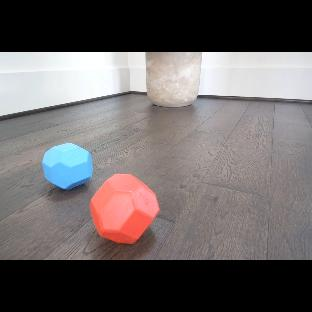V5_BLUE: (42, 141, 93, 191)
V5_RED: (90, 173, 160, 245)
